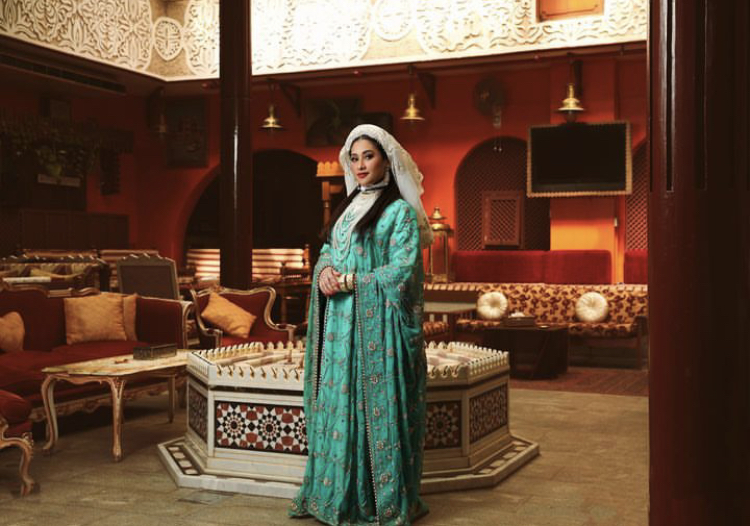Saudi_Founding_Day: (286, 120, 436, 526)
